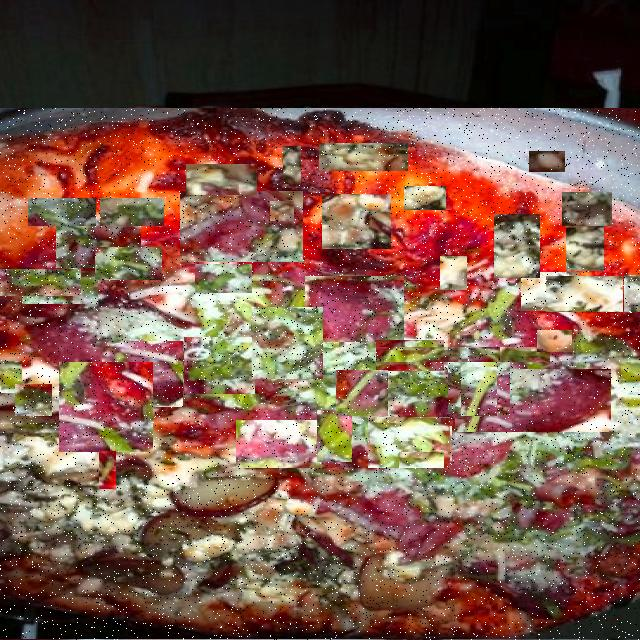Basil: (252, 307, 323, 379), (368, 417, 451, 468), (48, 331, 117, 390), (184, 337, 255, 394), (448, 358, 510, 416), (378, 426, 452, 462), (22, 272, 98, 306), (376, 348, 537, 363), (336, 370, 388, 416), (95, 248, 162, 282), (0, 269, 81, 296), (376, 340, 444, 371), (312, 409, 353, 456), (28, 198, 96, 226), (317, 410, 352, 462), (100, 198, 164, 226), (461, 368, 497, 416), (195, 264, 252, 293), (0, 238, 40, 278), (196, 263, 253, 291), (107, 200, 161, 226), (368, 342, 422, 367), (126, 430, 156, 474), (15, 384, 52, 416), (257, 364, 293, 393), (463, 370, 483, 412), (500, 347, 550, 362), (399, 452, 444, 468), (0, 361, 22, 393), (100, 451, 118, 489), (382, 421, 404, 451), (0, 338, 26, 359)
Cheese: (322, 194, 391, 249), (494, 214, 540, 278), (546, 276, 623, 312), (319, 143, 408, 171), (521, 272, 579, 311), (186, 164, 257, 195), (566, 224, 604, 271), (562, 192, 612, 226), (556, 342, 620, 368), (529, 186, 570, 220), (404, 186, 446, 210), (440, 256, 467, 290), (537, 330, 572, 352), (529, 151, 565, 172), (283, 146, 301, 184), (624, 275, 640, 312), (270, 202, 294, 221)
Pepperoni: (455, 369, 611, 432), (180, 192, 303, 264), (59, 362, 153, 452), (306, 276, 406, 342), (102, 341, 183, 407), (56, 219, 141, 268), (236, 421, 322, 468), (131, 274, 200, 302)
Pizza: (0, 108, 640, 640)
